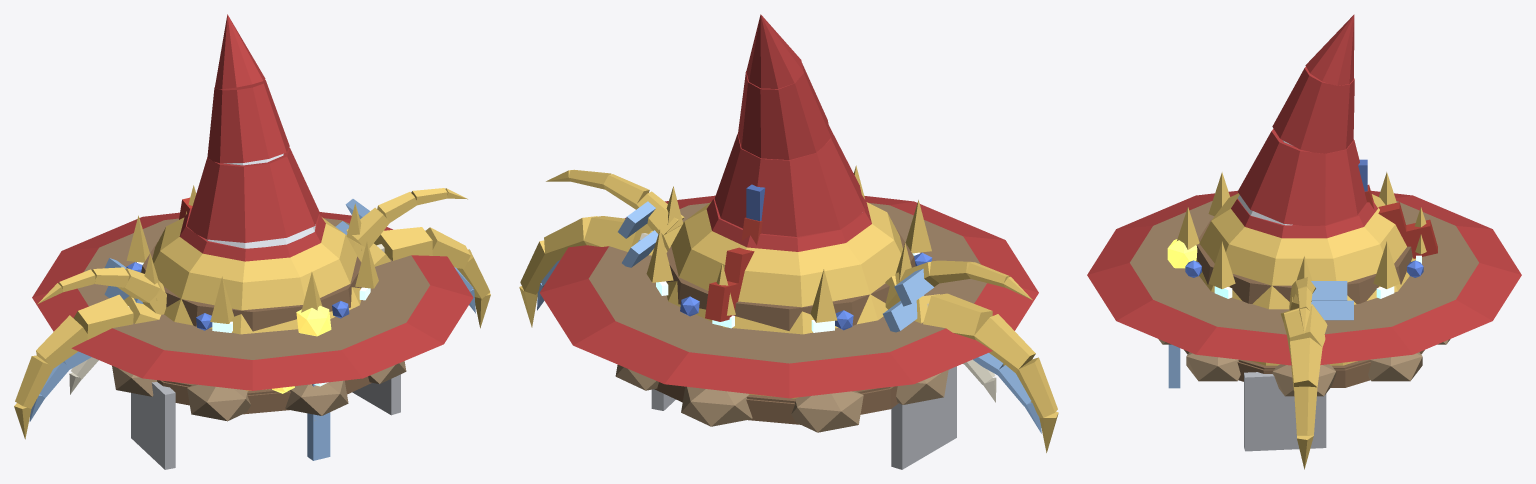
The model's file is gear_helms.glb.
The picture shows the model from 3 angles, left to right: view 1: azimuth 30°, elevation 25°; view 2: azimuth 150°, elevation 25°; view 3: azimuth 270°, elevation 25°; orthographic projection. The views are drawn at different scales.
Parts seen in each view (by area): view 1: hatM3, helmK3, hatM0, helmB3, helmB0, helmK1, helmB2, helmB1, hatM2, helmK2, hatM1; view 2: hatM3, helmK3, hatM0, helmB3, helmB0, helmK1, helmK2, helmB1, helmB2, hatM1, hatM2; view 3: hatM3, hatM0, helmK3, helmK1, helmB3, helmB0, helmK2, helmB1, hatM2, helmB2, hatM1.
Part boxes in pixels (left/top/right/bottom): hatM3: left=32, top=14, right=473, bottom=390; helmK3: left=38, top=188, right=467, bottom=390; hatM0: left=77, top=218, right=429, bottom=359; helmB3: left=14, top=227, right=490, bottom=439; helmB0: left=112, top=244, right=406, bottom=421; helmK1: left=131, top=374, right=400, bottom=469; helmB2: left=29, top=267, right=475, bottom=460; helmB1: left=69, top=357, right=371, bottom=414; hatM2: left=137, top=153, right=370, bottom=332; helmK2: left=104, top=199, right=369, bottom=386; hatM1: left=126, top=262, right=349, bottom=330; hatM3: left=539, top=14, right=1038, bottom=398; helmK3: left=546, top=169, right=1032, bottom=398; hatM0: left=588, top=203, right=986, bottom=363; helmB3: left=519, top=216, right=1058, bottom=452; helmB0: left=615, top=233, right=948, bottom=432; helmK1: left=651, top=184, right=956, bottom=469; helmK2: left=618, top=201, right=933, bottom=332; helmB1: left=654, top=359, right=996, bottom=424; helmB2: left=537, top=240, right=1041, bottom=433; hatM1: left=680, top=252, right=932, bottom=330; hatM2: left=656, top=252, right=919, bottom=332; hatM3: left=1087, top=14, right=1521, bottom=365; hatM0: left=1130, top=201, right=1478, bottom=334; helmK3: left=1196, top=184, right=1437, bottom=365; helmK1: left=1244, top=159, right=1367, bottom=451; helmB3: left=1280, top=304, right=1327, bottom=469; helmB0: left=1158, top=339, right=1450, bottom=396; helmK2: left=1311, top=281, right=1353, bottom=320; helmB1: left=1184, top=350, right=1424, bottom=387; hatM2: left=1214, top=140, right=1421, bottom=298; helmB2: left=1168, top=344, right=1180, bottom=388; hatM1: left=1185, top=260, right=1423, bottom=277.
Size of the model in its own units: 2.78 by 2.16 by 2.24.
